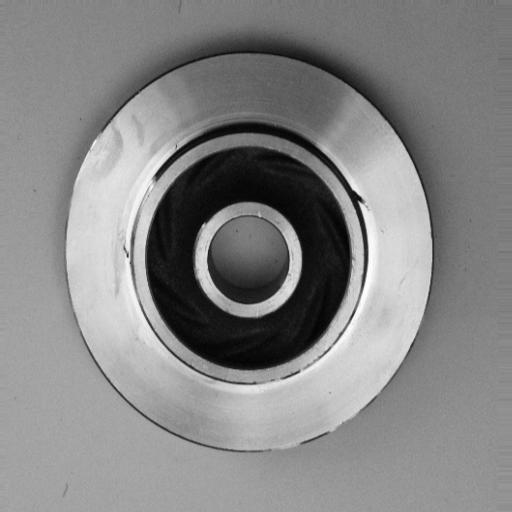crack: (339, 174, 383, 222), (113, 231, 144, 277)
scratch: (267, 335, 346, 392), (133, 168, 161, 224)
unpolished_casting: (63, 52, 436, 455)
